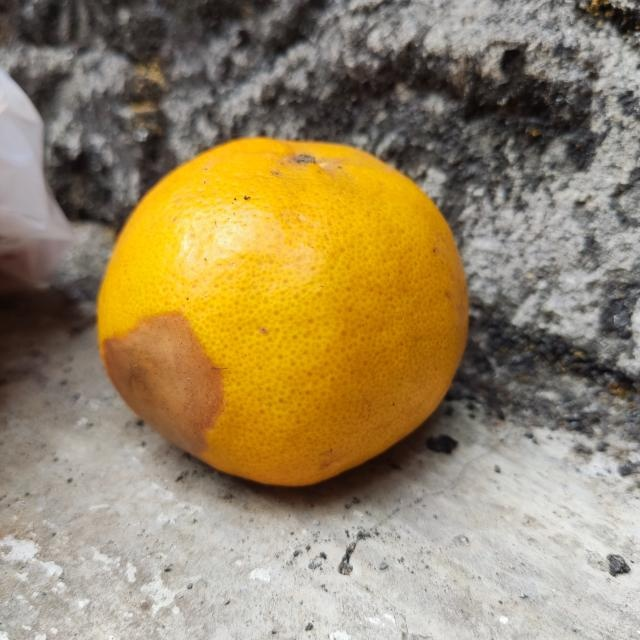agrume: (92, 134, 471, 486)
